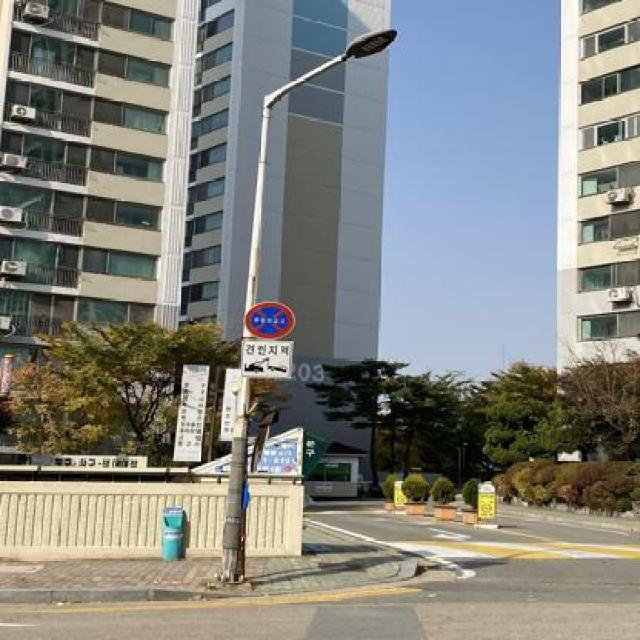pole: (215, 90, 278, 592)
